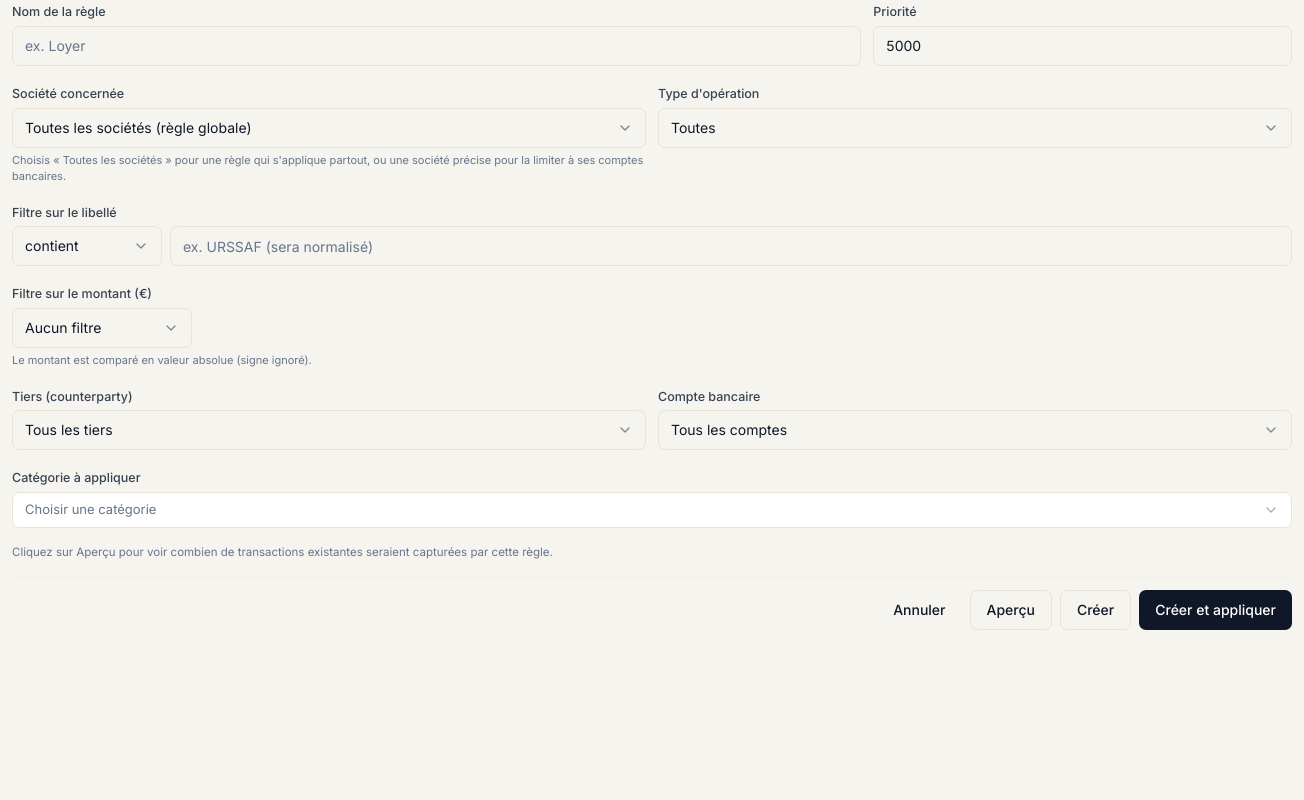
RuleForm › affiche une erreur si on soumet sans categorie ni filtre
Type "Test" into the field labelled "Nom de la règle" at (437, 46), box [12,26,861,66]
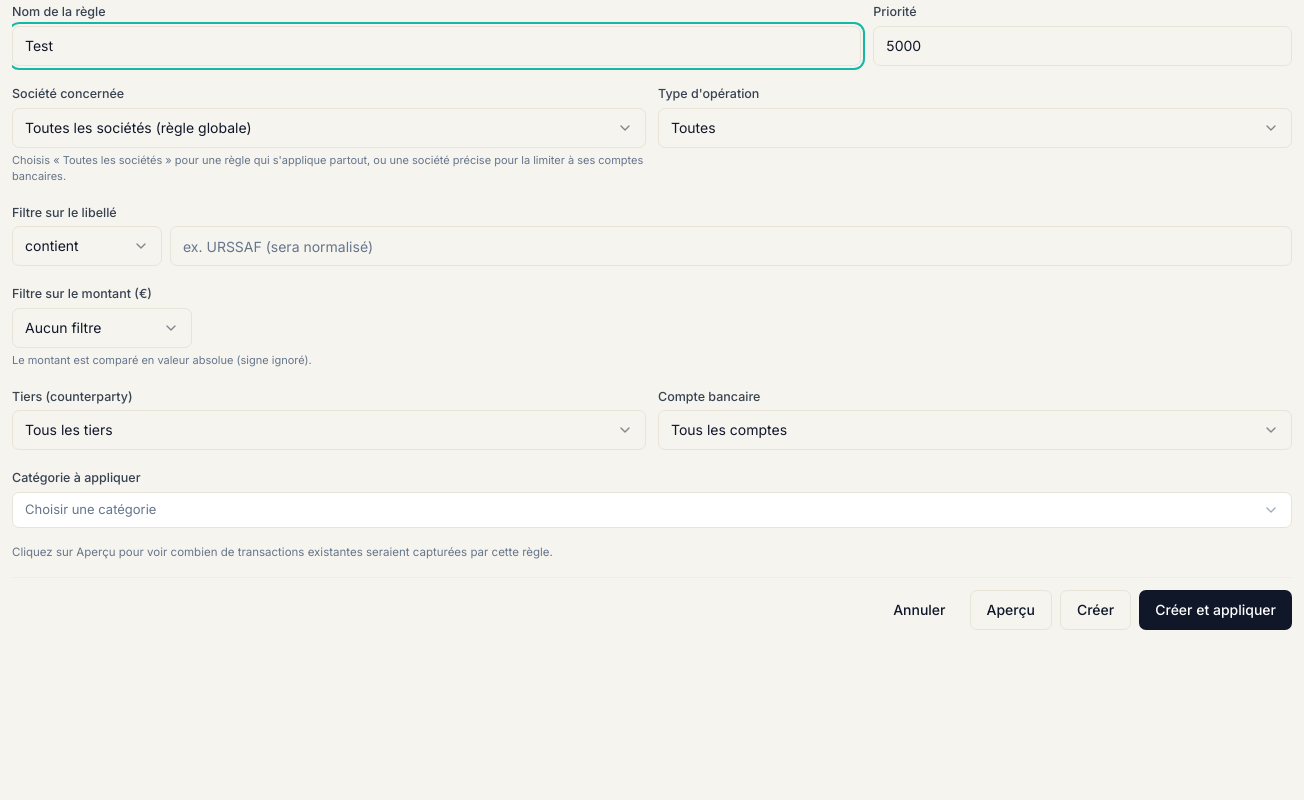
Click the button "Créer" at (1096, 610), box [1060,590,1131,630]
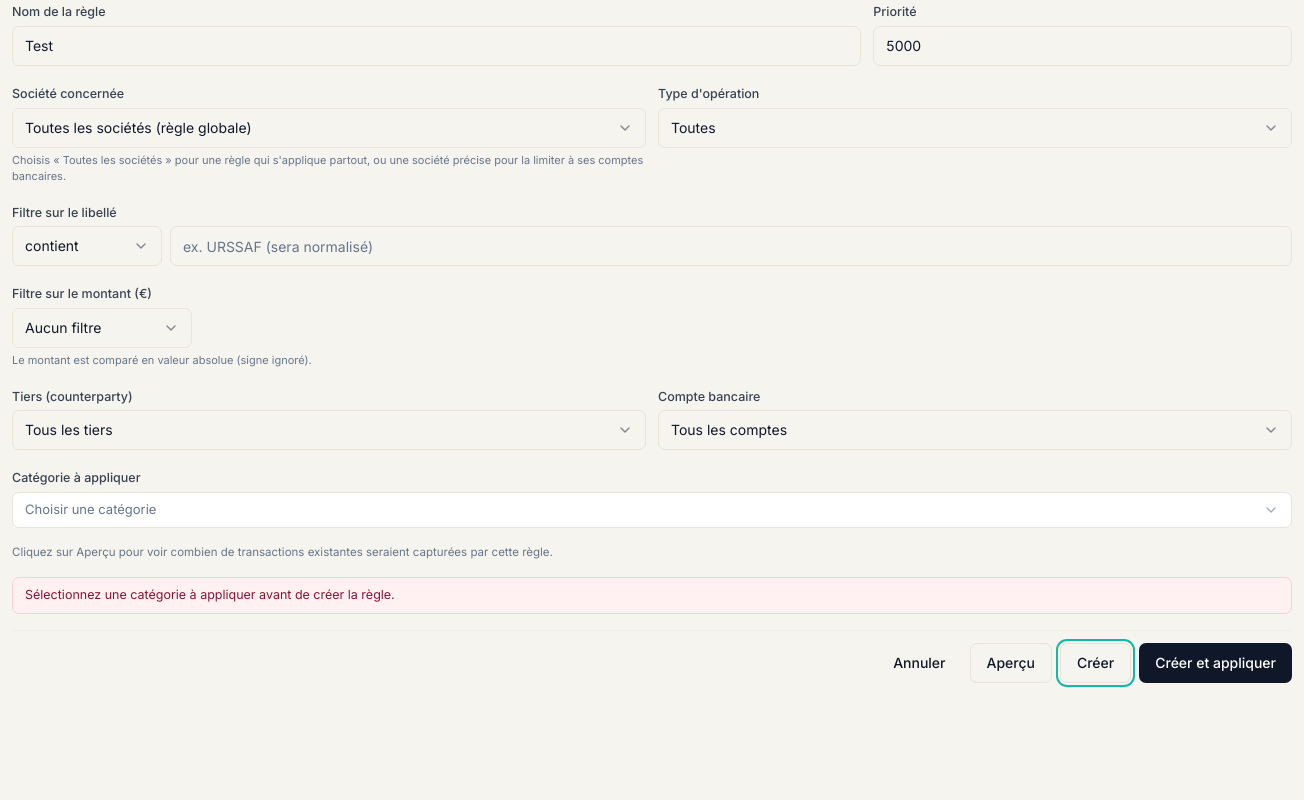
Result: the message "Sélectionnez une catégorie à appliquer avant de créer la règle." is shown at [12,577,1292,614]
